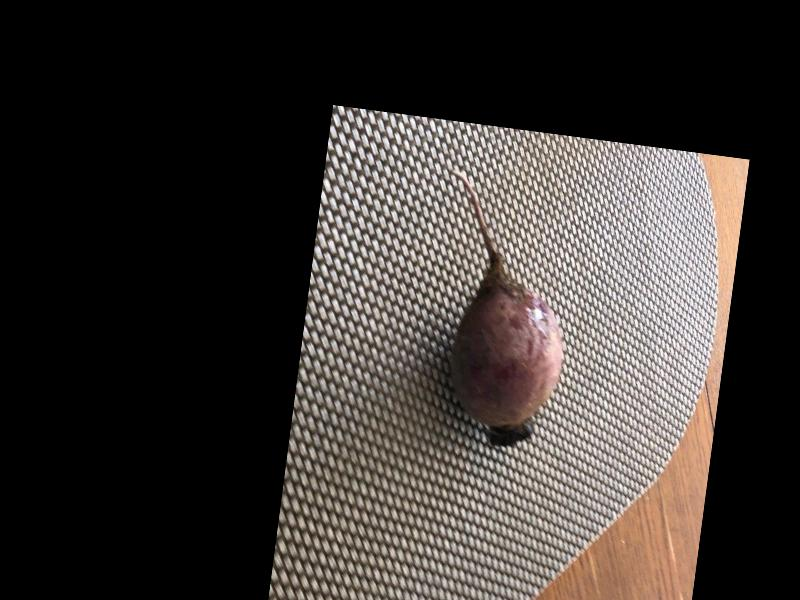Beet: (417, 169, 584, 454)
